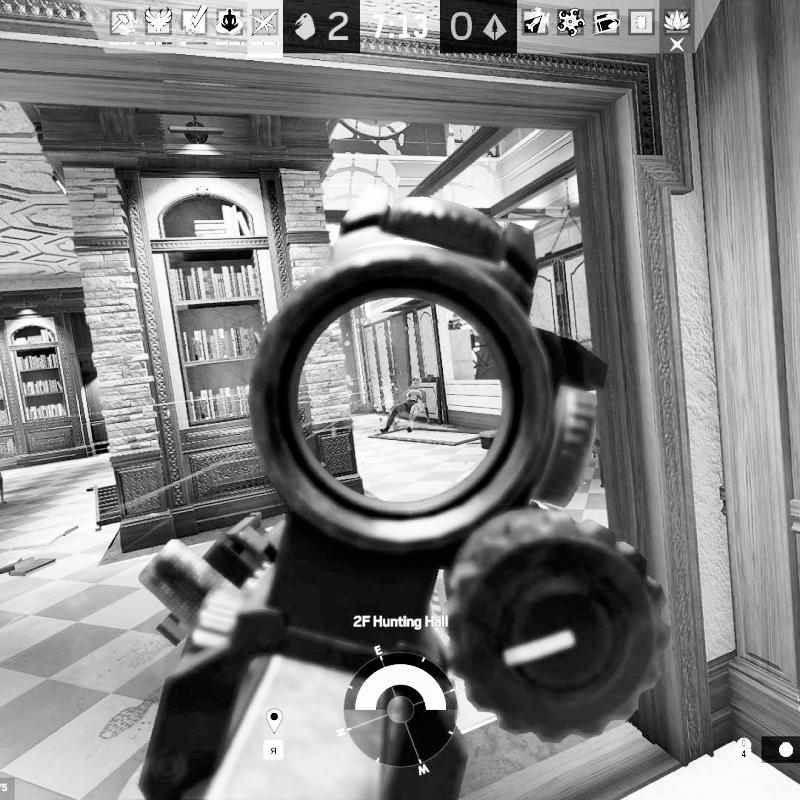Character: (378, 375, 434, 435)
Head: (411, 376, 421, 389)
